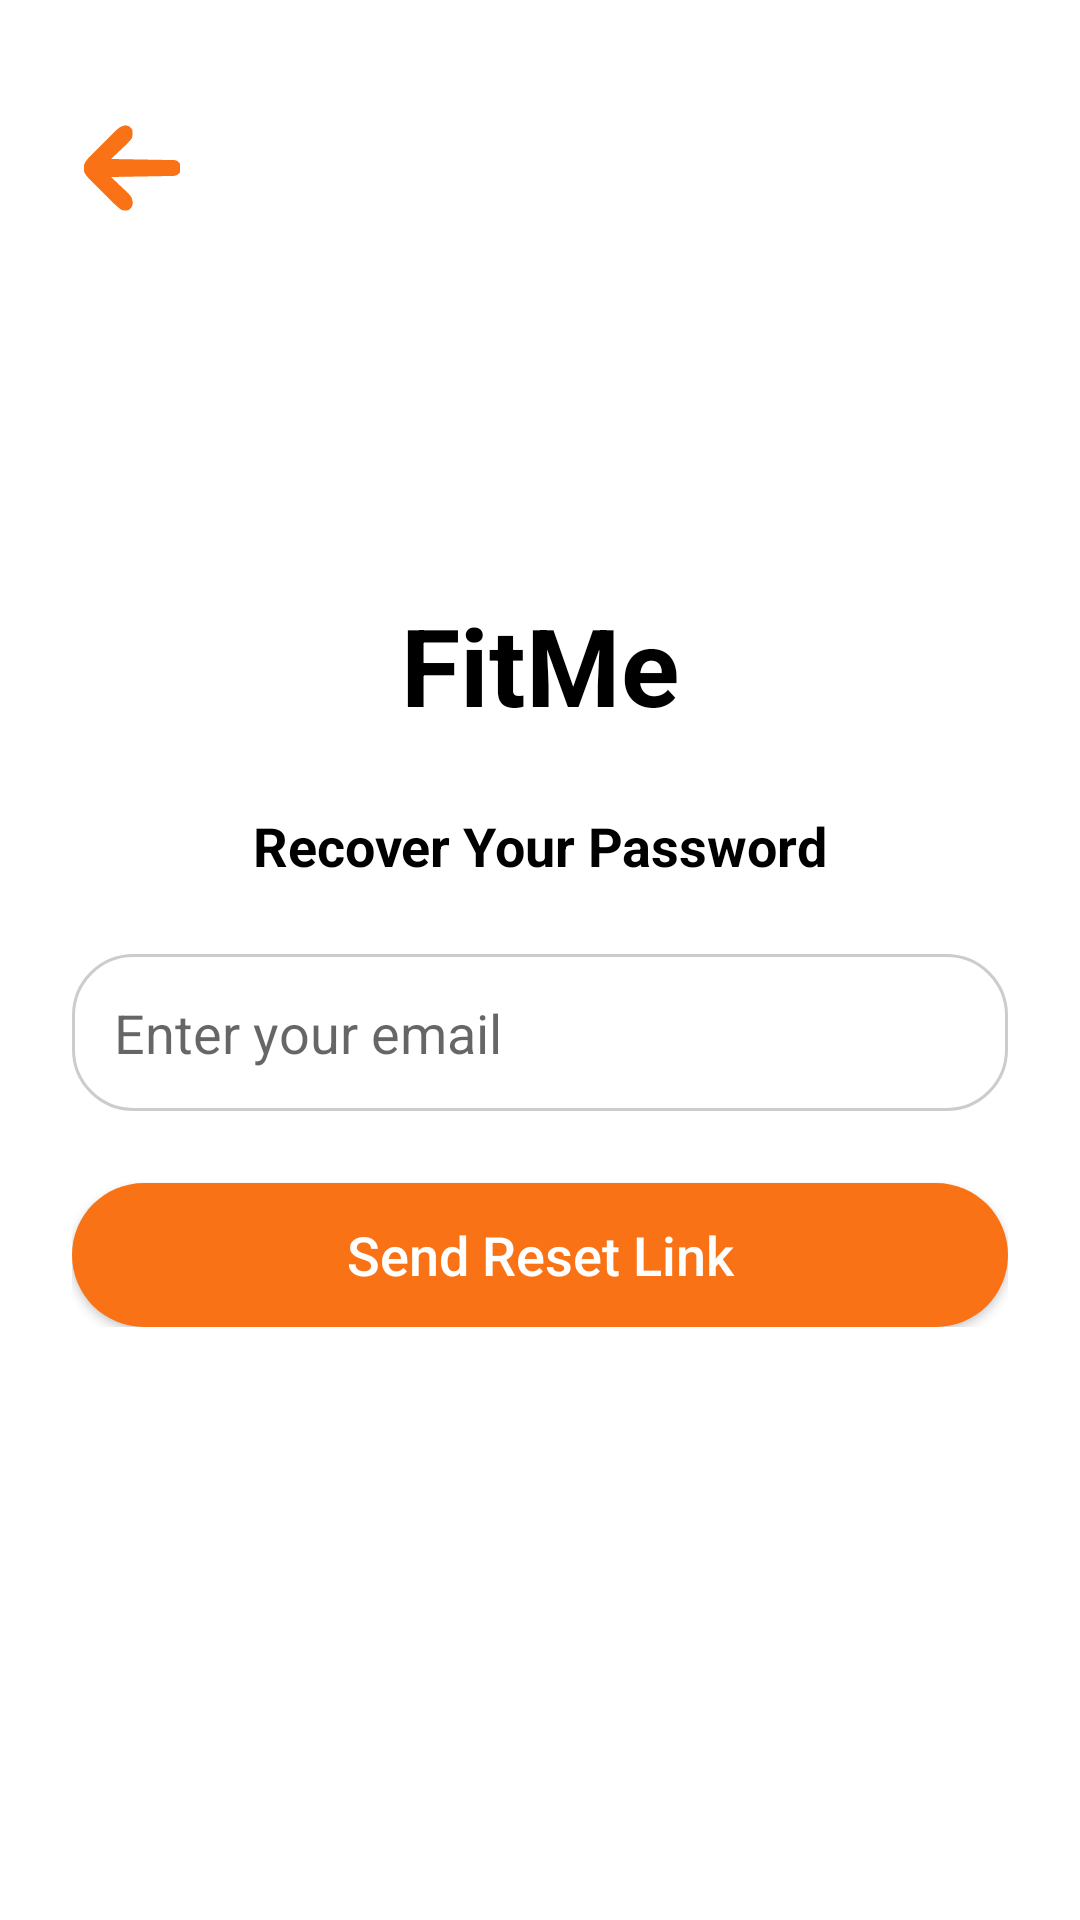

Locate icon controls on the screen. Image size 1080px×1920px, boxes as (x1, y1, x2, y2).
Back: (84, 125, 180, 211)
